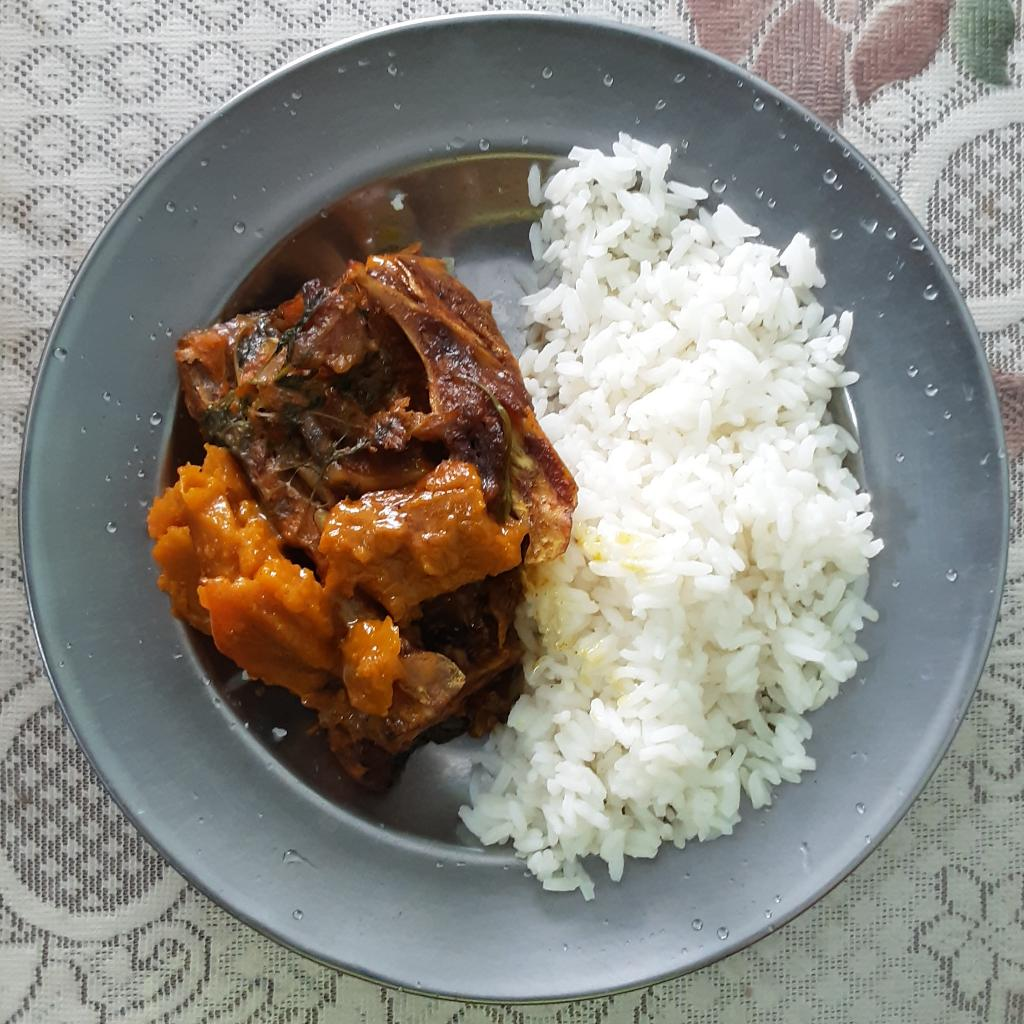fish: (176, 244, 574, 580), (328, 569, 521, 794)
kumra-vaji: (143, 438, 526, 725)
rice: (457, 131, 885, 902)
